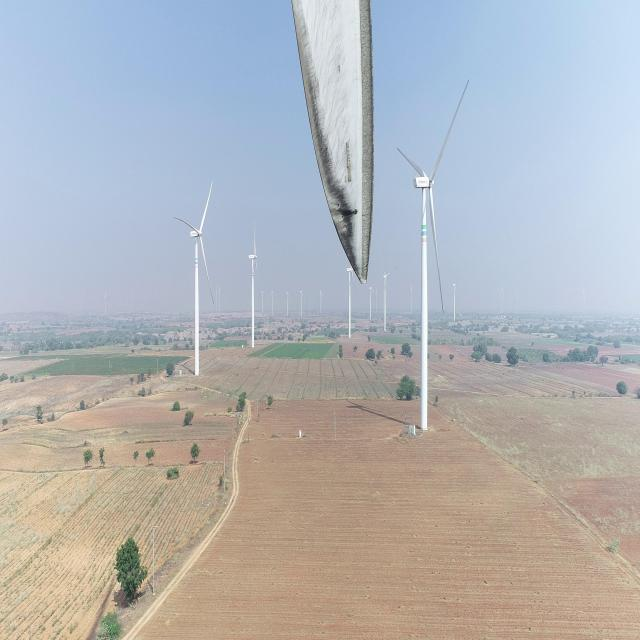Dirt: (290, 0, 375, 284)
Oil LEAKAGE: (301, 69, 367, 280)
Pin Hole: (350, 204, 364, 218)
